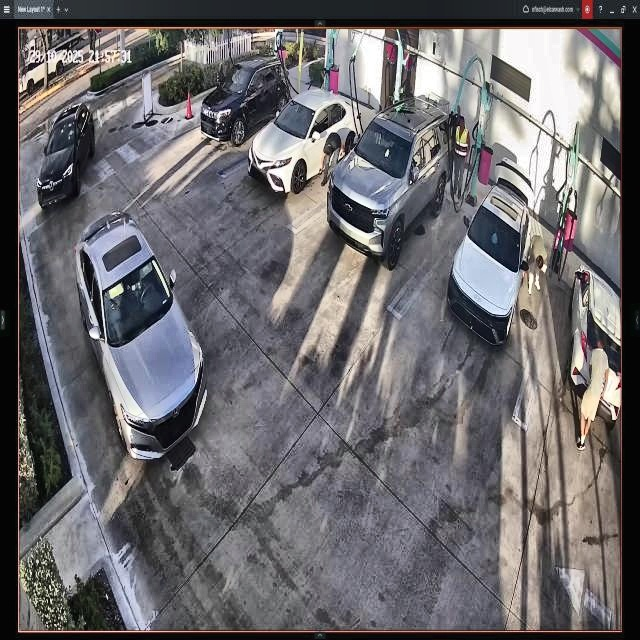Car: (75, 208, 211, 460), (328, 101, 452, 265), (451, 161, 532, 351), (247, 88, 361, 196)
